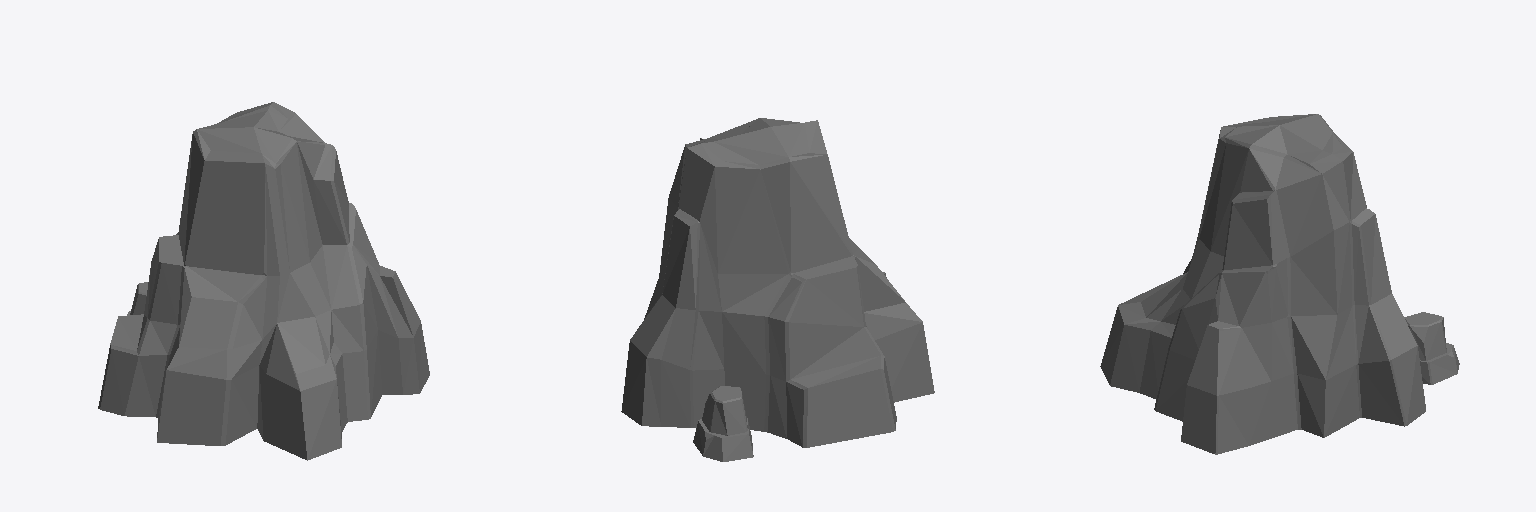
File: SM_montagne.obj
3 views of the same model, side by side, from view 1: azimuth 30°, elevation 25°; view 2: azimuth 150°, elevation 25°; view 3: azimuth 270°, elevation 25° (orthographic).
Visible parts, largest first — view 1: polySurface27; view 2: polySurface27, polySurface27.001; view 3: polySurface27, polySurface27.001.
Boxes of the visible parts, box(x1,y1,x2,y2) form: polySurface27: box(98, 102, 429, 460); polySurface27: box(621, 118, 934, 447); polySurface27.001: box(693, 386, 753, 461); polySurface27: box(1100, 114, 1425, 454); polySurface27.001: box(1404, 312, 1459, 384).
Bounding box in the file's own units: 11.75 × 10.26 × 12.89.